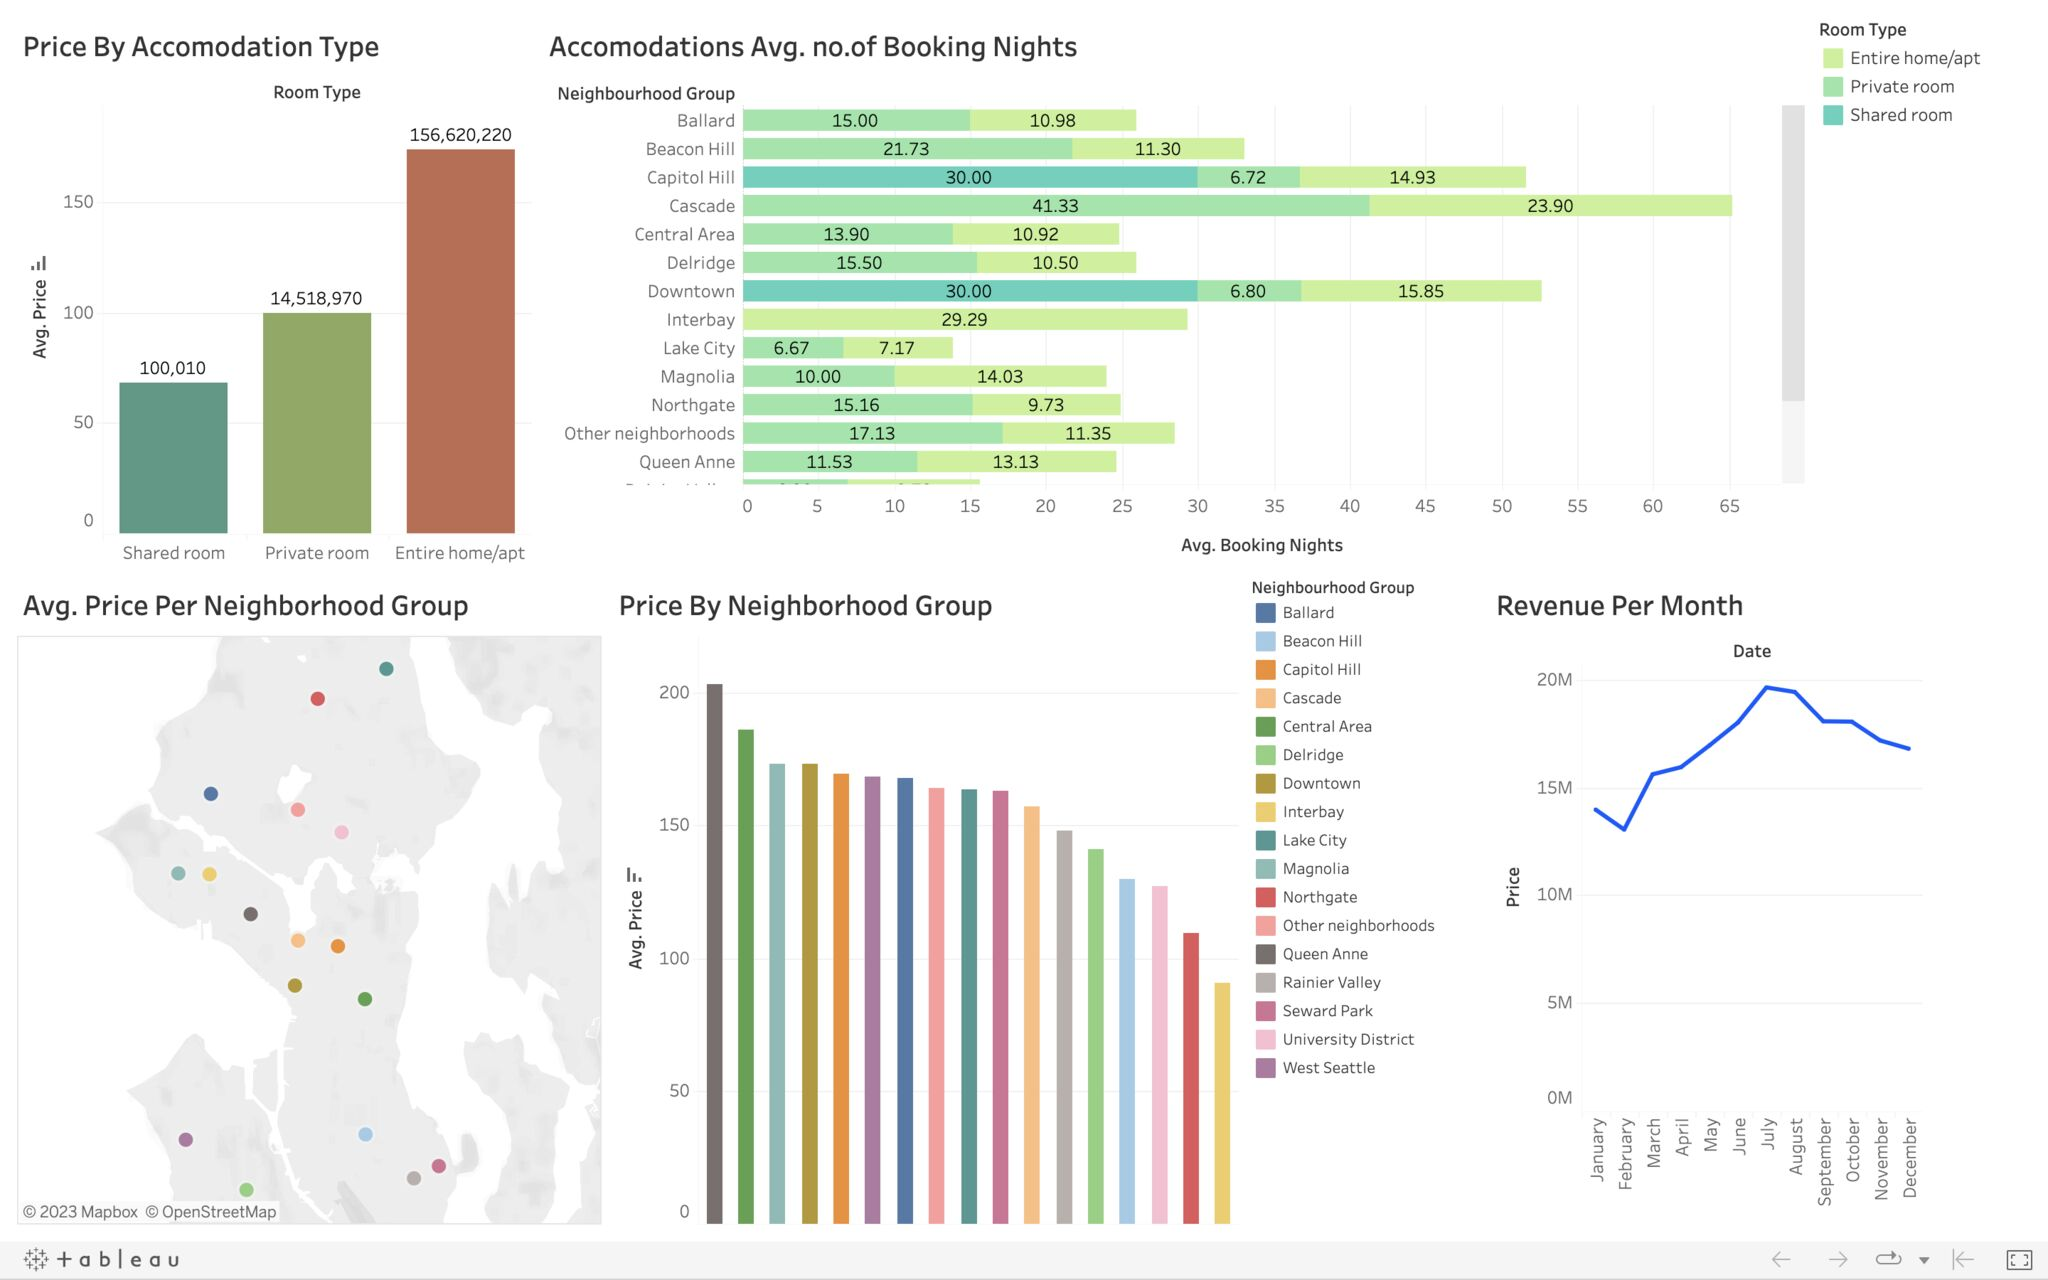

The page's visual inventory and layout, read from the dashboard file:
{"tool":"tableau","page":{"name":"Dashboard 1","canvas":[1000,1000],"units":"permille","ordinal":0},"visuals":[{"type":"worksheet","title":"Sheet 4","mark":"Automatic","rows":["price"],"cols":["room_type"],"box":[6.7,13.5,256.1,445.9]},{"type":"worksheet","title":"Sheet 5","mark":"Automatic","rows":["neighbourhood_group"],"cols":["minimum_nights"],"box":[262.8,13.5,621.8,445.9]},{"type":"legend","title":"Sheet 5","param":"[federated.02fax9y1di7s4219p0evu0emueem].[none:room_type:nk]","box":[884.5,13.5,108.8,445.9]},{"type":"worksheet","title":"Sheet 2","mark":"Automatic","rows":["latitude"],"cols":["longitude"],"box":[6.7,459.5,290.4,527]},{"type":"worksheet","title":"Sheet 1","mark":"Automatic","rows":["price"],"cols":["neighbourhood_group"],"box":[297.1,459.5,311.3,527]},{"type":"legend","title":"Sheet 1","param":"[federated.02fax9y1di7s4219p0evu0emueem].[none:neighbourhood_group:nk]","box":[608.4,459.5,116.3,527]},{"type":"worksheet","title":"Sheet 3","mark":"Automatic","rows":["price (calendar)"],"cols":["date"],"box":[724.7,459.5,268.6,527]}]}

Visuals, with their boxes on the dashboard's canvas, which has no fixed pixel size, in thousandths of its width and height (x1, y1, x2, y2). These are canvas units, not pixel positions in the 2048x1280 screenshot, which may show the page scaled, cropped or inside an application window:
"Sheet 4" worksheet: bbox=[7, 14, 263, 459]
"Sheet 5" worksheet: bbox=[263, 14, 885, 459]
"Sheet 5" legend: bbox=[884, 14, 993, 459]
"Sheet 2" worksheet: bbox=[7, 460, 297, 986]
"Sheet 1" worksheet: bbox=[297, 460, 608, 986]
"Sheet 1" legend: bbox=[608, 460, 725, 986]
"Sheet 3" worksheet: bbox=[725, 460, 993, 986]
